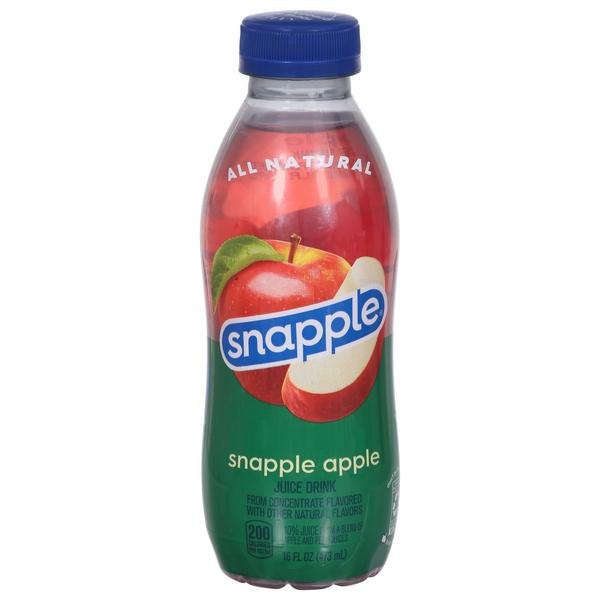juice: (206, 9, 414, 596)
